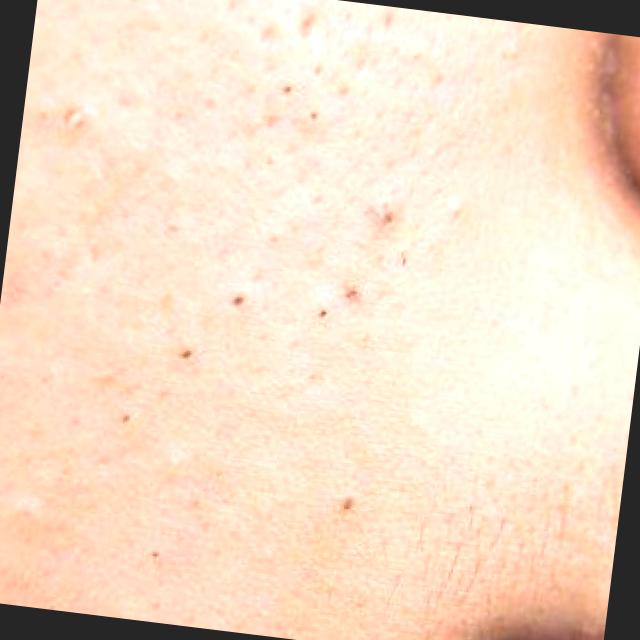blackhead: (59, 104, 90, 136), (230, 294, 244, 308), (382, 210, 394, 224), (342, 497, 354, 510), (147, 550, 160, 562), (180, 348, 192, 361), (318, 308, 328, 318), (121, 414, 130, 424), (309, 110, 318, 120), (283, 84, 292, 94)
